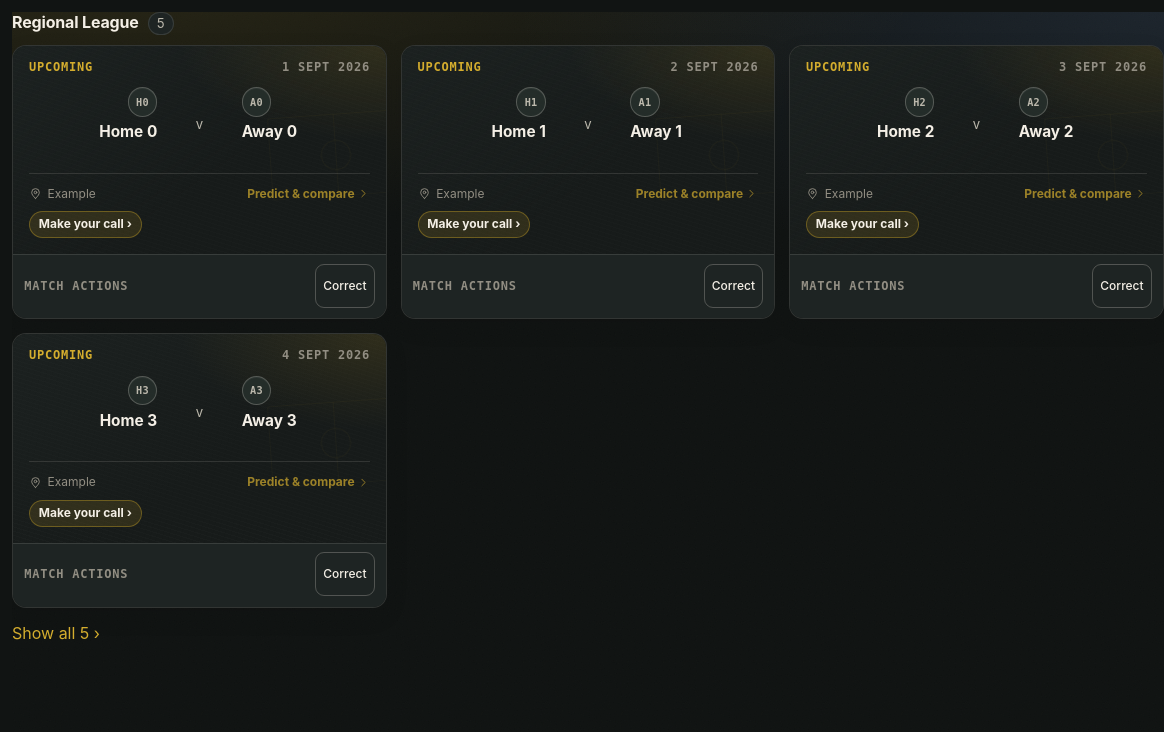
Scenario: Matchday progressive disclosure › expands an uncatalogued competition locally
Expected: the number of links with class "game-card" is 4, [13,46,386,254]; [402,46,774,254]; [790,46,1163,254]; [13,334,386,542]
Click the button "Show all 5 ›" at (56, 633), box [12,617,100,648]
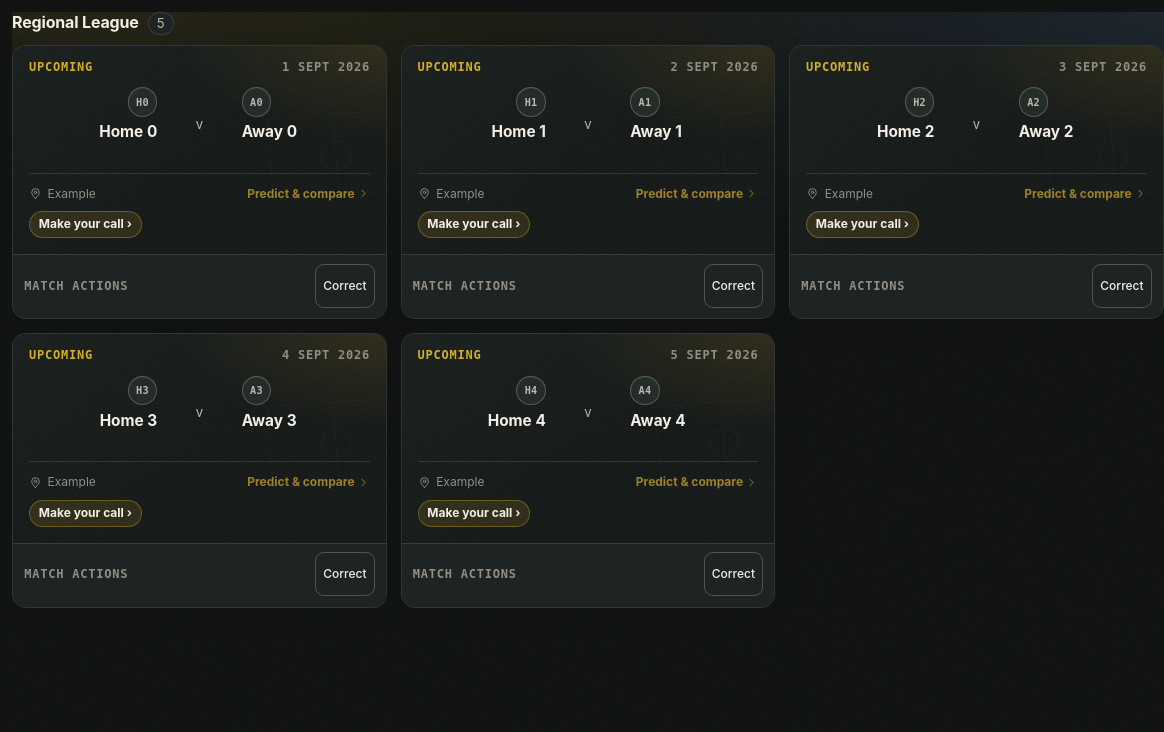
Expected: the number of links with class "game-card" is 5, [13,46,386,254]; [402,46,774,254]; [790,46,1163,254]; [13,334,386,542]; [402,334,774,542]
